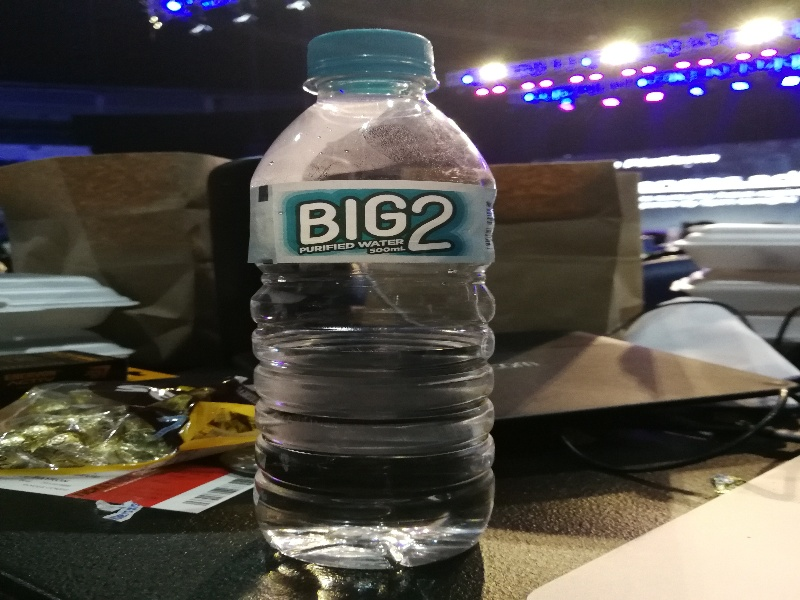PET #1: (245, 27, 498, 574)
